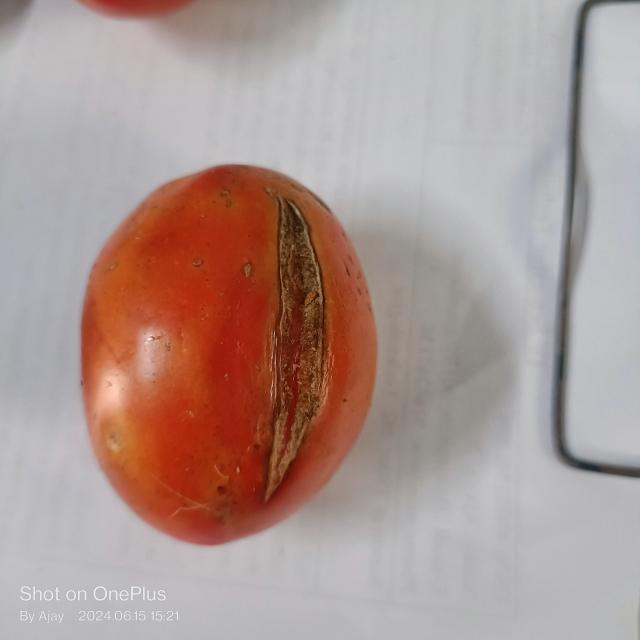tomato_cracking: (256, 197, 331, 513)
